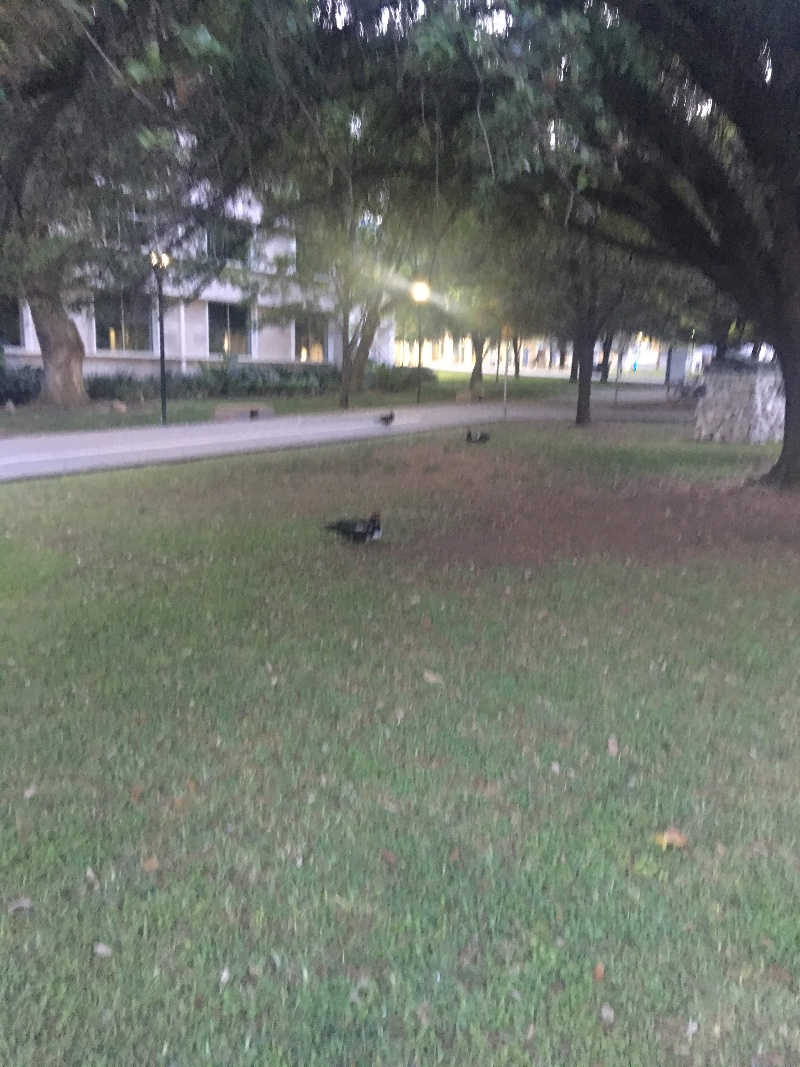pato: (328, 510, 388, 545)
